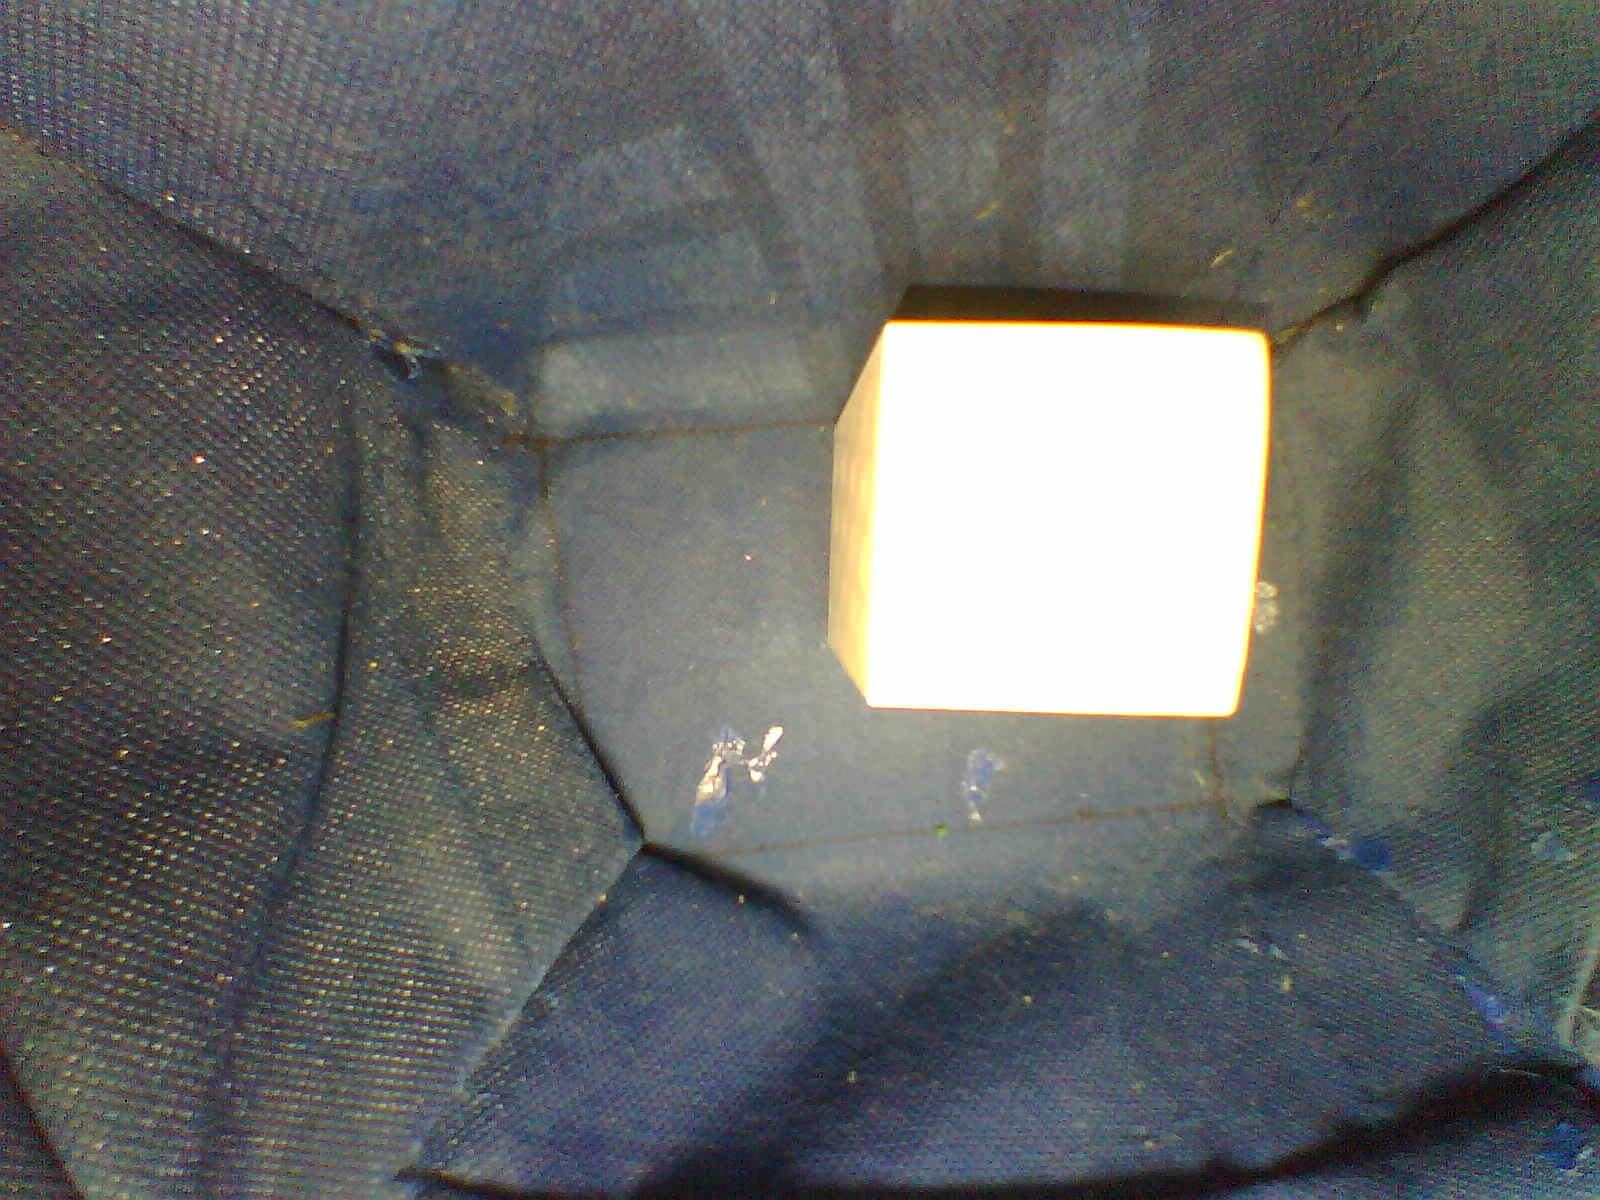cube-hard: (811, 289, 1295, 754)
